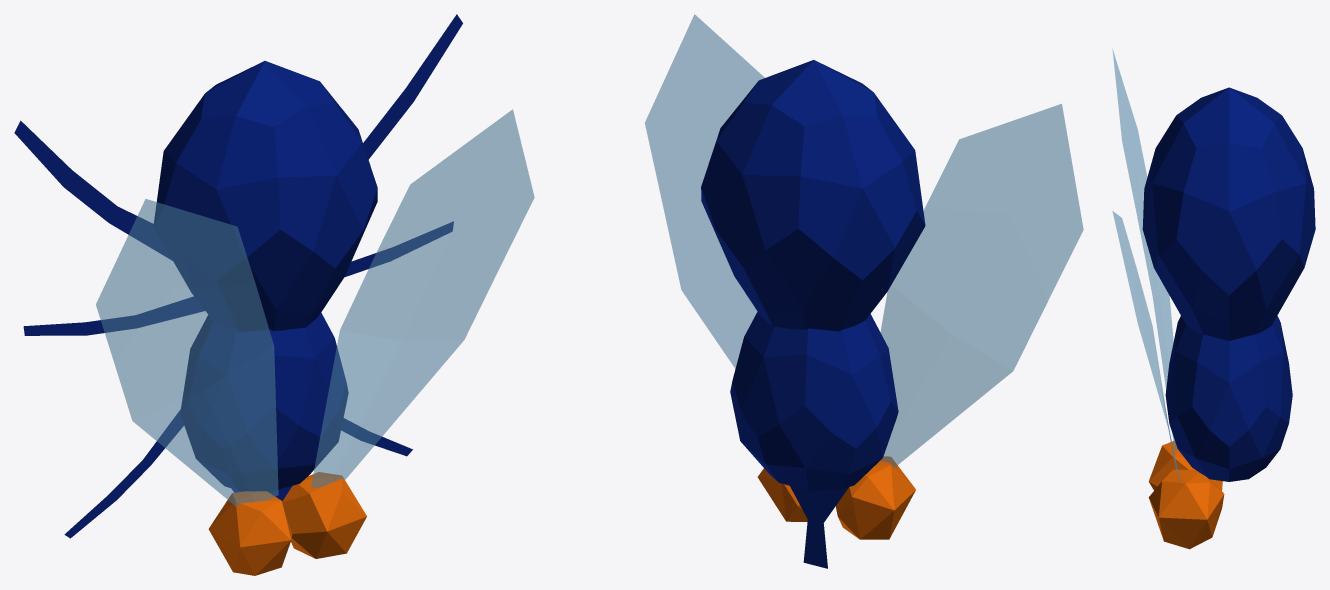
Rendered from neoprene_note.gltf.
3 views of the same model, side by side, from view 1: azimuth 30°, elevation 25°; view 2: azimuth 150°, elevation 25°; view 3: azimuth 270°, elevation 25° (orthographic). The views are drawn at different scales.
Parts seen in each view (by area): view 1: neoprene_note; view 2: neoprene_note; view 3: neoprene_note.
Part boxes in pixels (x1,y1,x2,y2): neoprene_note: (14, 14, 534, 575); neoprene_note: (645, 14, 1083, 568); neoprene_note: (1112, 50, 1315, 549).
Bounding box in the file's own units: 0.4076 × 0.4399 × 0.176.
